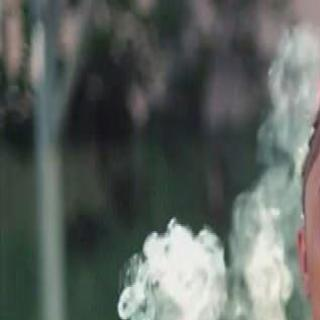smoke: (110, 215, 228, 320), (235, 183, 314, 320), (255, 13, 320, 176)
